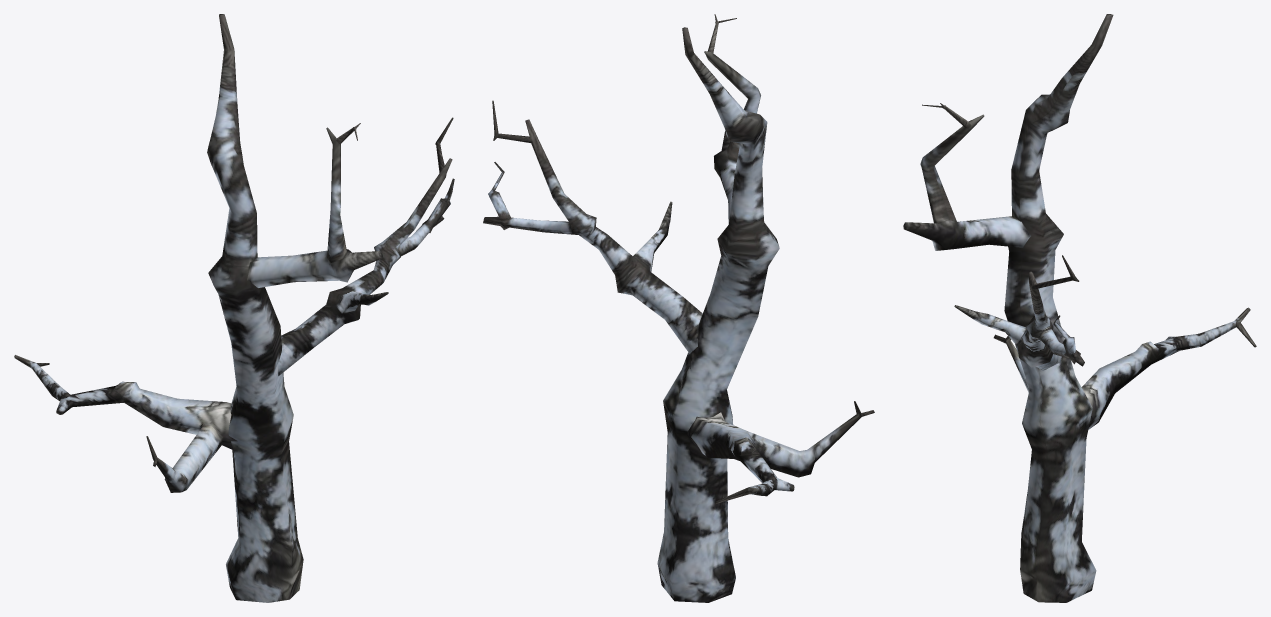
The model's file is Stage_BingYuan_Shu06.FBX.
3 views of the same model, side by side, from view 1: azimuth 30°, elevation 25°; view 2: azimuth 150°, elevation 25°; view 3: azimuth 270°, elevation 25° (orthographic). The views are drawn at different scales.
Parts seen in each view (by area): view 1: Stage_BingYuan_Shu06; view 2: Stage_BingYuan_Shu06; view 3: Stage_BingYuan_Shu06.
Part boxes in pixels (x1,y1,x2,y2): Stage_BingYuan_Shu06: [14, 14, 454, 602]; Stage_BingYuan_Shu06: [483, 14, 874, 602]; Stage_BingYuan_Shu06: [903, 14, 1256, 602].
Size of the model in its own units: 339 by 522 by 295.
